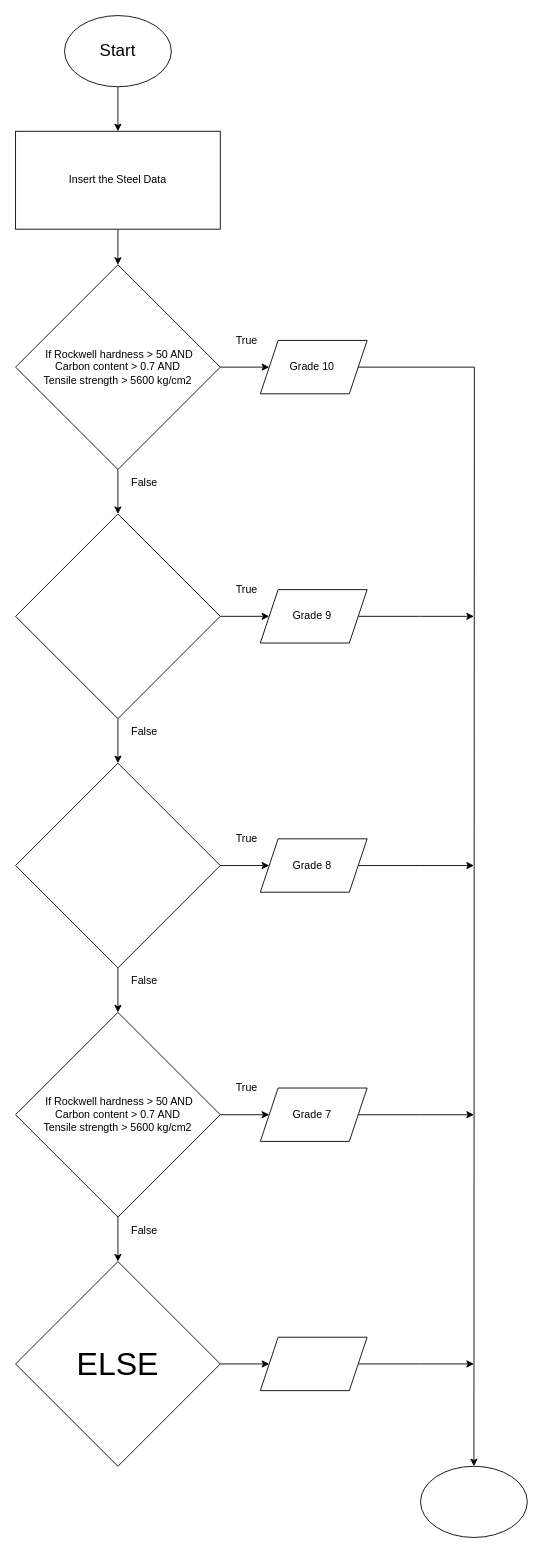
The diagram is 543 pixels wide and 1553 high, and some of its shapes have lost their labels. The shapes that lost their labels are listed below. From the top down, each one's centre as x and y in pixels, then its label:
At [117,616]: "If Rockwell hardness > 50 AND Carbon content > 0.7 AND".
At [117,865]: "If Carbon content > 0.7 AND Tensile strength > 5600 kg/cm2".
At [313,1363]: "Not Satisfied".
At [473,1501]: "Stop".
